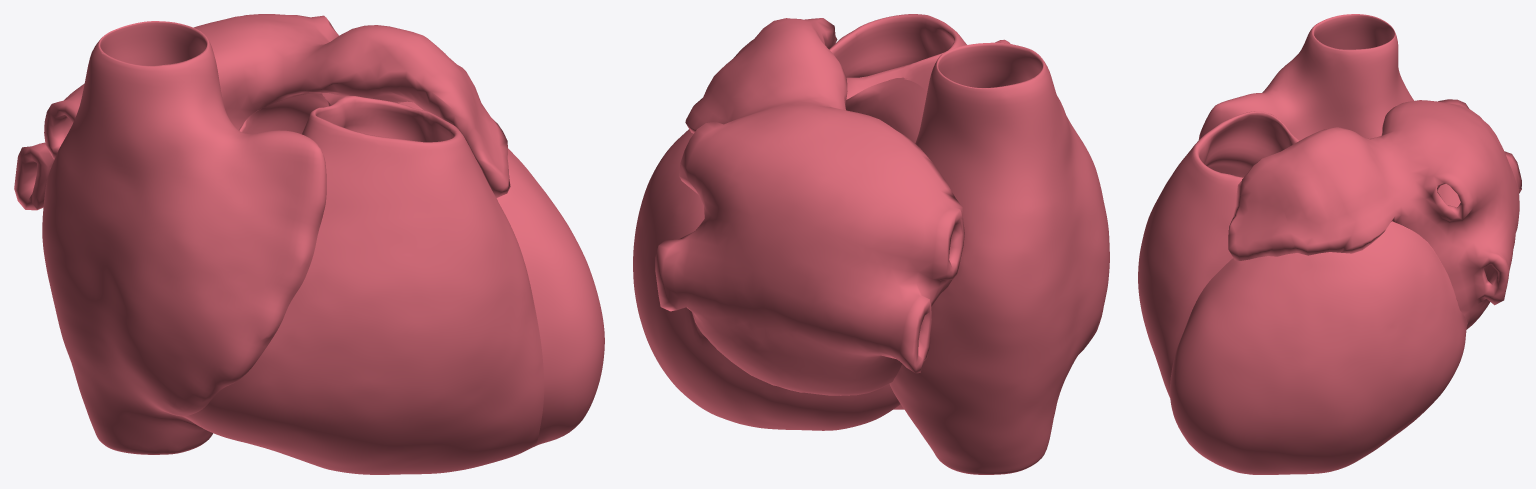
The model's file is cuore-test.glb.
The picture shows the model from 3 angles, left to right: view 1: azimuth 30°, elevation 25°; view 2: azimuth 150°, elevation 25°; view 3: azimuth 270°, elevation 25°; orthographic projection. The views are drawn at different scales.
Visible parts, largest first — view 1: Right ventricle, Right atrium, Left atrium, Left ventricle; view 2: Left atrium, Right atrium, Left ventricle, Right ventricle; view 3: Left ventricle, Left atrium, Right ventricle, Right atrium.
Part boxes in pixels (x1=…): Right ventricle: x1=184, y1=93, x2=544, y2=474; Right atrium: x1=42, y1=21, x2=326, y2=454; Left atrium: x1=14, y1=14, x2=510, y2=210; Left ventricle: x1=239, y1=94, x2=604, y2=446; Left atrium: x1=655, y1=18, x2=964, y2=395; Right atrium: x1=889, y1=39, x2=1109, y2=474; Left ventricle: x1=633, y1=77, x2=927, y2=430; Right ventricle: x1=829, y1=14, x2=966, y2=409; Left ventricle: x1=1170, y1=221, x2=1467, y2=474; Left atrium: x1=1228, y1=99, x2=1521, y2=329; Right ventricle: x1=1138, y1=111, x2=1299, y2=397; Right atrium: x1=1198, y1=14, x2=1413, y2=221.
Size of the model in its own units: 0.1191 by 0.108 by 0.1129.
